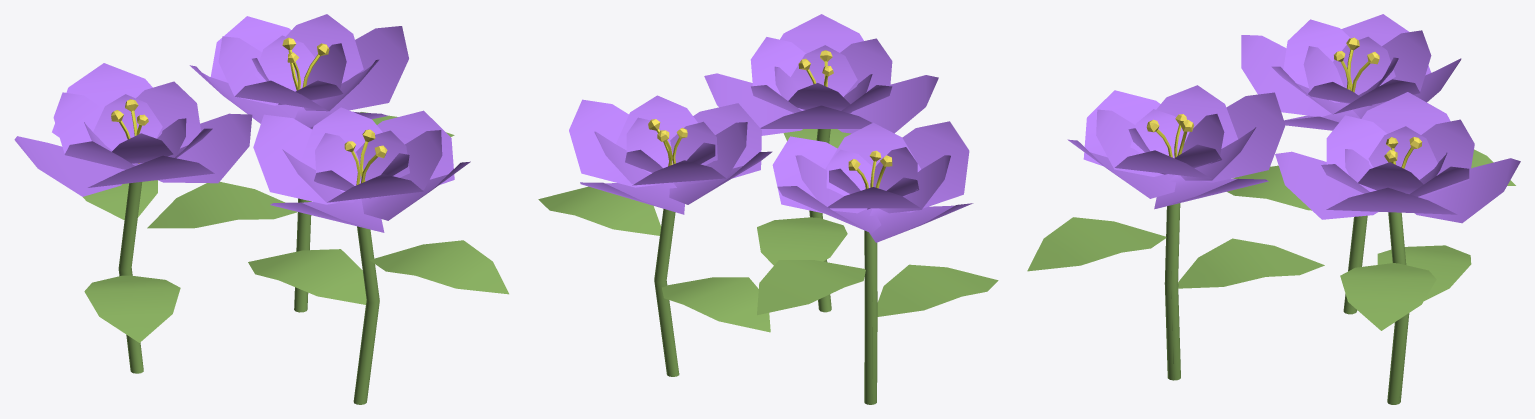
The model's file is flower01_purple.fbx.
3 renders of one model, left to right at view 1: azimuth 30°, elevation 25°; view 2: azimuth 150°, elevation 25°; view 3: azimuth 270°, elevation 25°, orthographic. The views are drawn at different scales.
Parts seen in each view (by area): view 1: flowers01_purple; view 2: flowers01_purple; view 3: flowers01_purple.
Boxes of the visible parts, x1,y1,x2,y2 form: flowers01_purple: (14, 14, 508, 404); flowers01_purple: (538, 14, 998, 404); flowers01_purple: (1027, 14, 1520, 404).
Size of the model in its own units: 0.6362 by 0.3646 by 0.6177.
